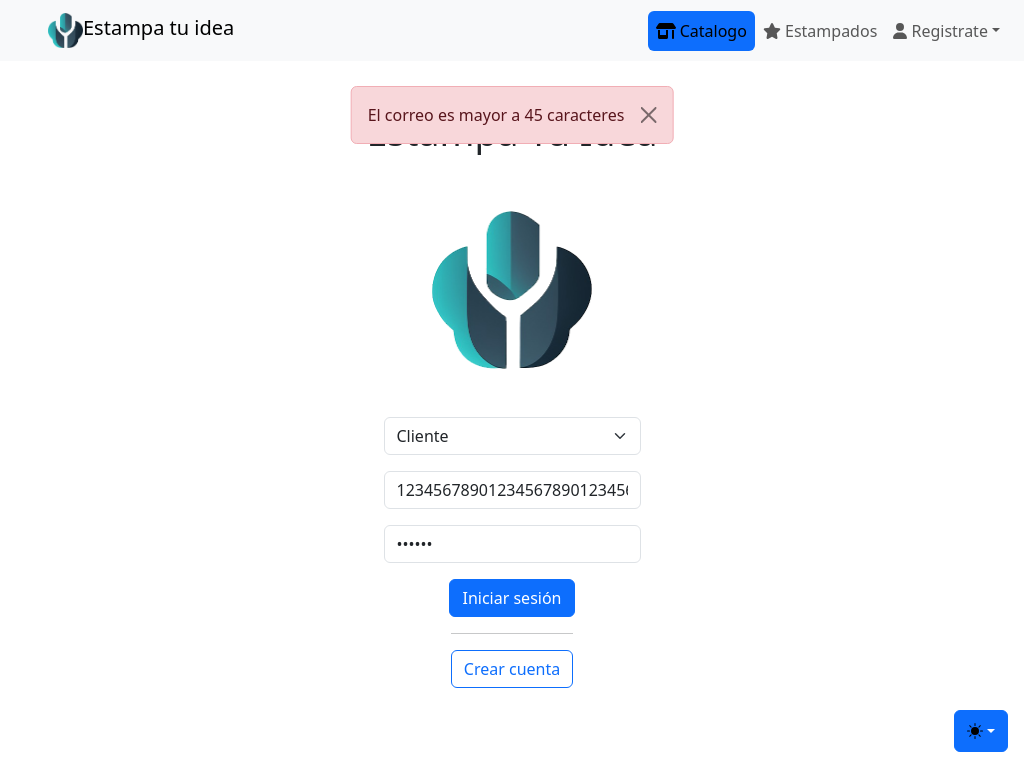
Test: Pruebas unitarias › La contraseña debe ser menor a 45 caracteres
# Completa el formulario de login
Replace the text in the field with test id "Correo" with "juanperez@example.com". click: x=512, y=490
box: [384,471,640,509]
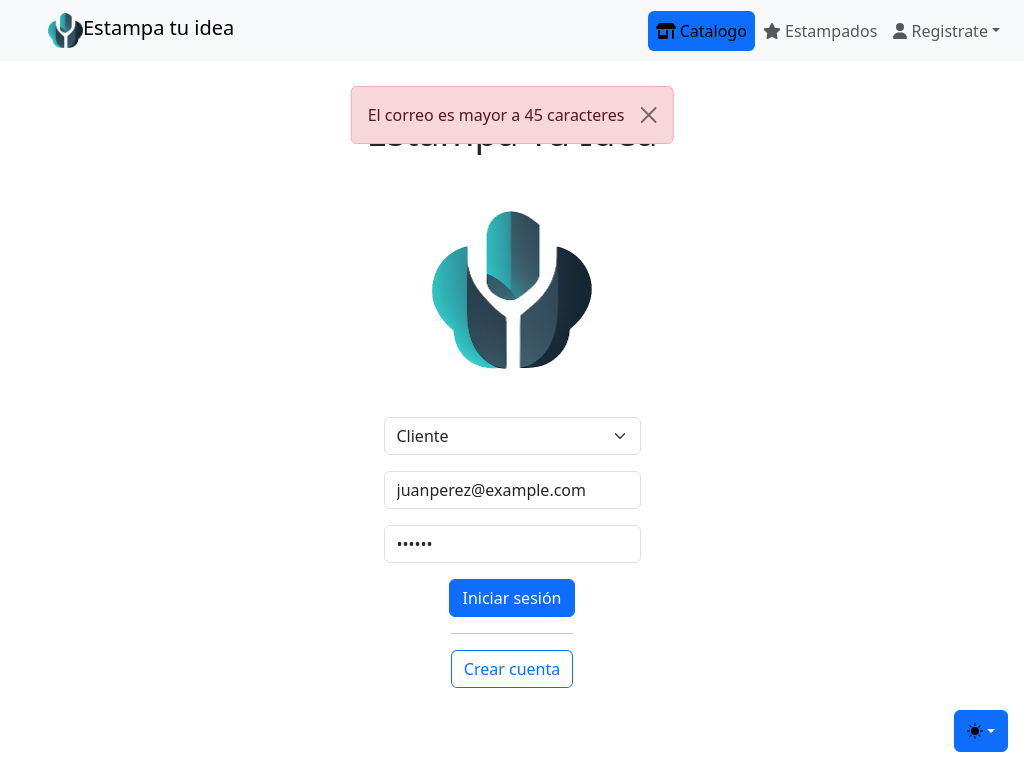
Type "1234567890123456789012345678901234567890123456" into the password field with test id "Contraseña". click: x=512, y=544
box: [384,525,640,563]
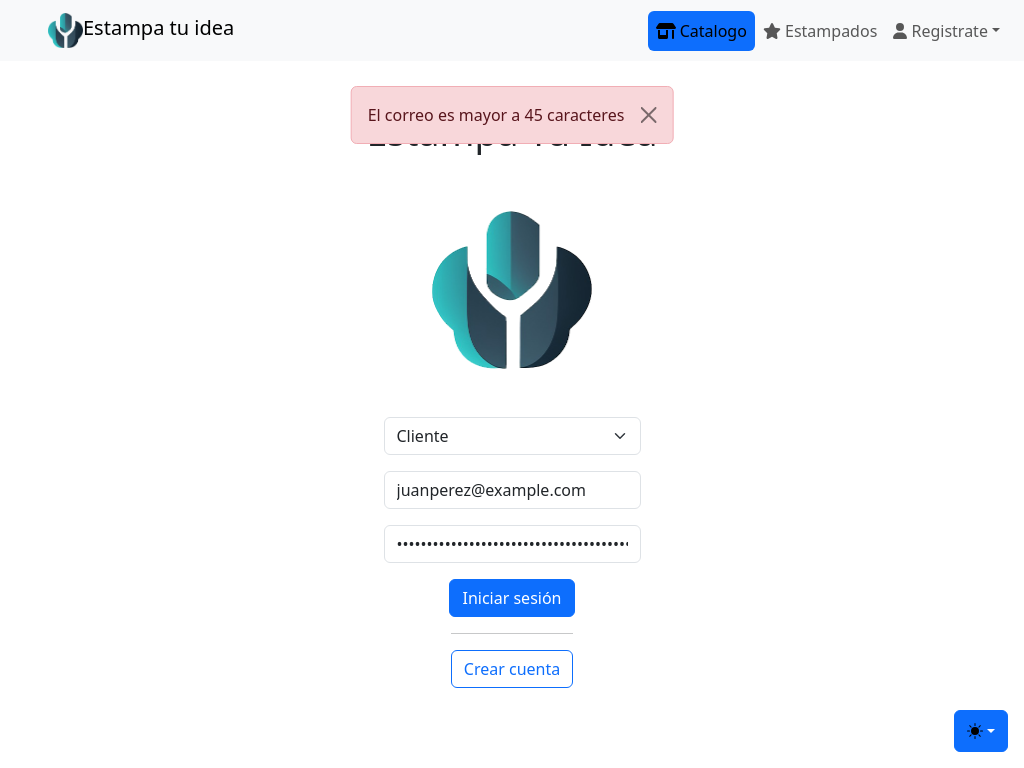
Select "Cliente" in the dropdown with test id "Tipo de registro". click: x=512, y=436
box: [384,417,640,455]
# Envía el formulario
Click the button "Iniciar sesión". click: x=512, y=598
box: [450,579,574,617]
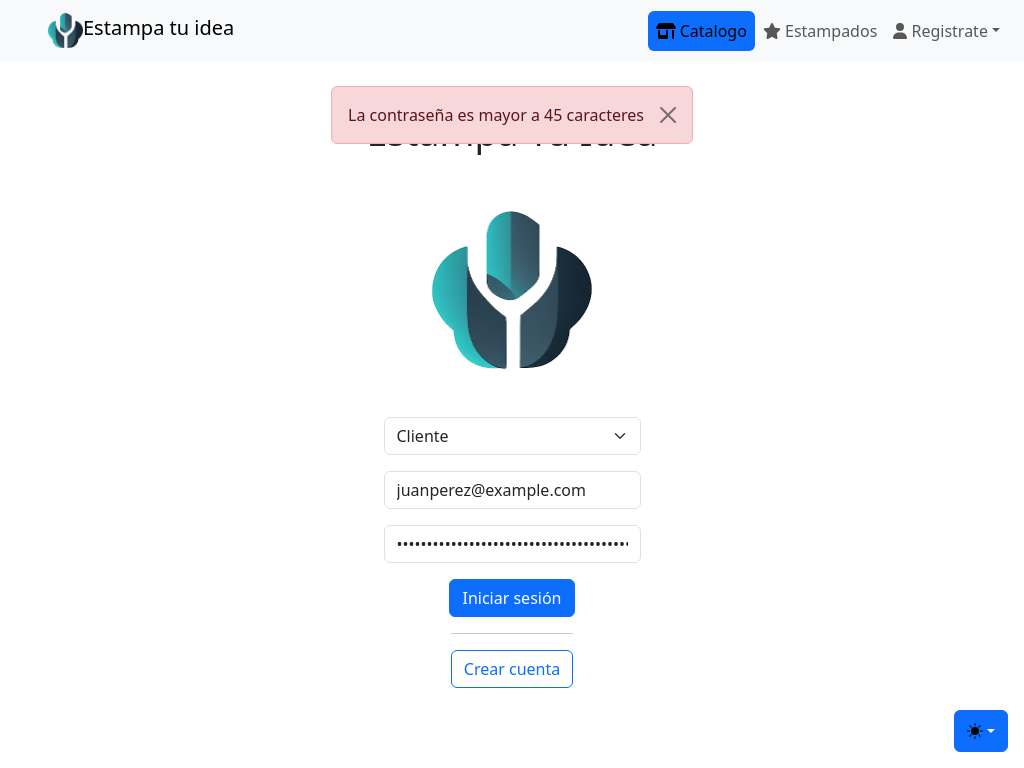
expect the text "La contraseña es mayor a 45 caracteres" is shown: met, box [331,86,693,144]
